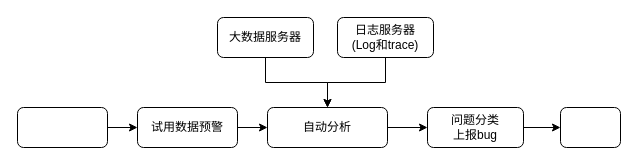
Image size: 638x165. Some labels were removed from this diagram. Here are the shapes that lost their labels. From the top down, the centre of each, then its label:
pixel 62 127: 试用用户数据
pixel 590 127: 周报
